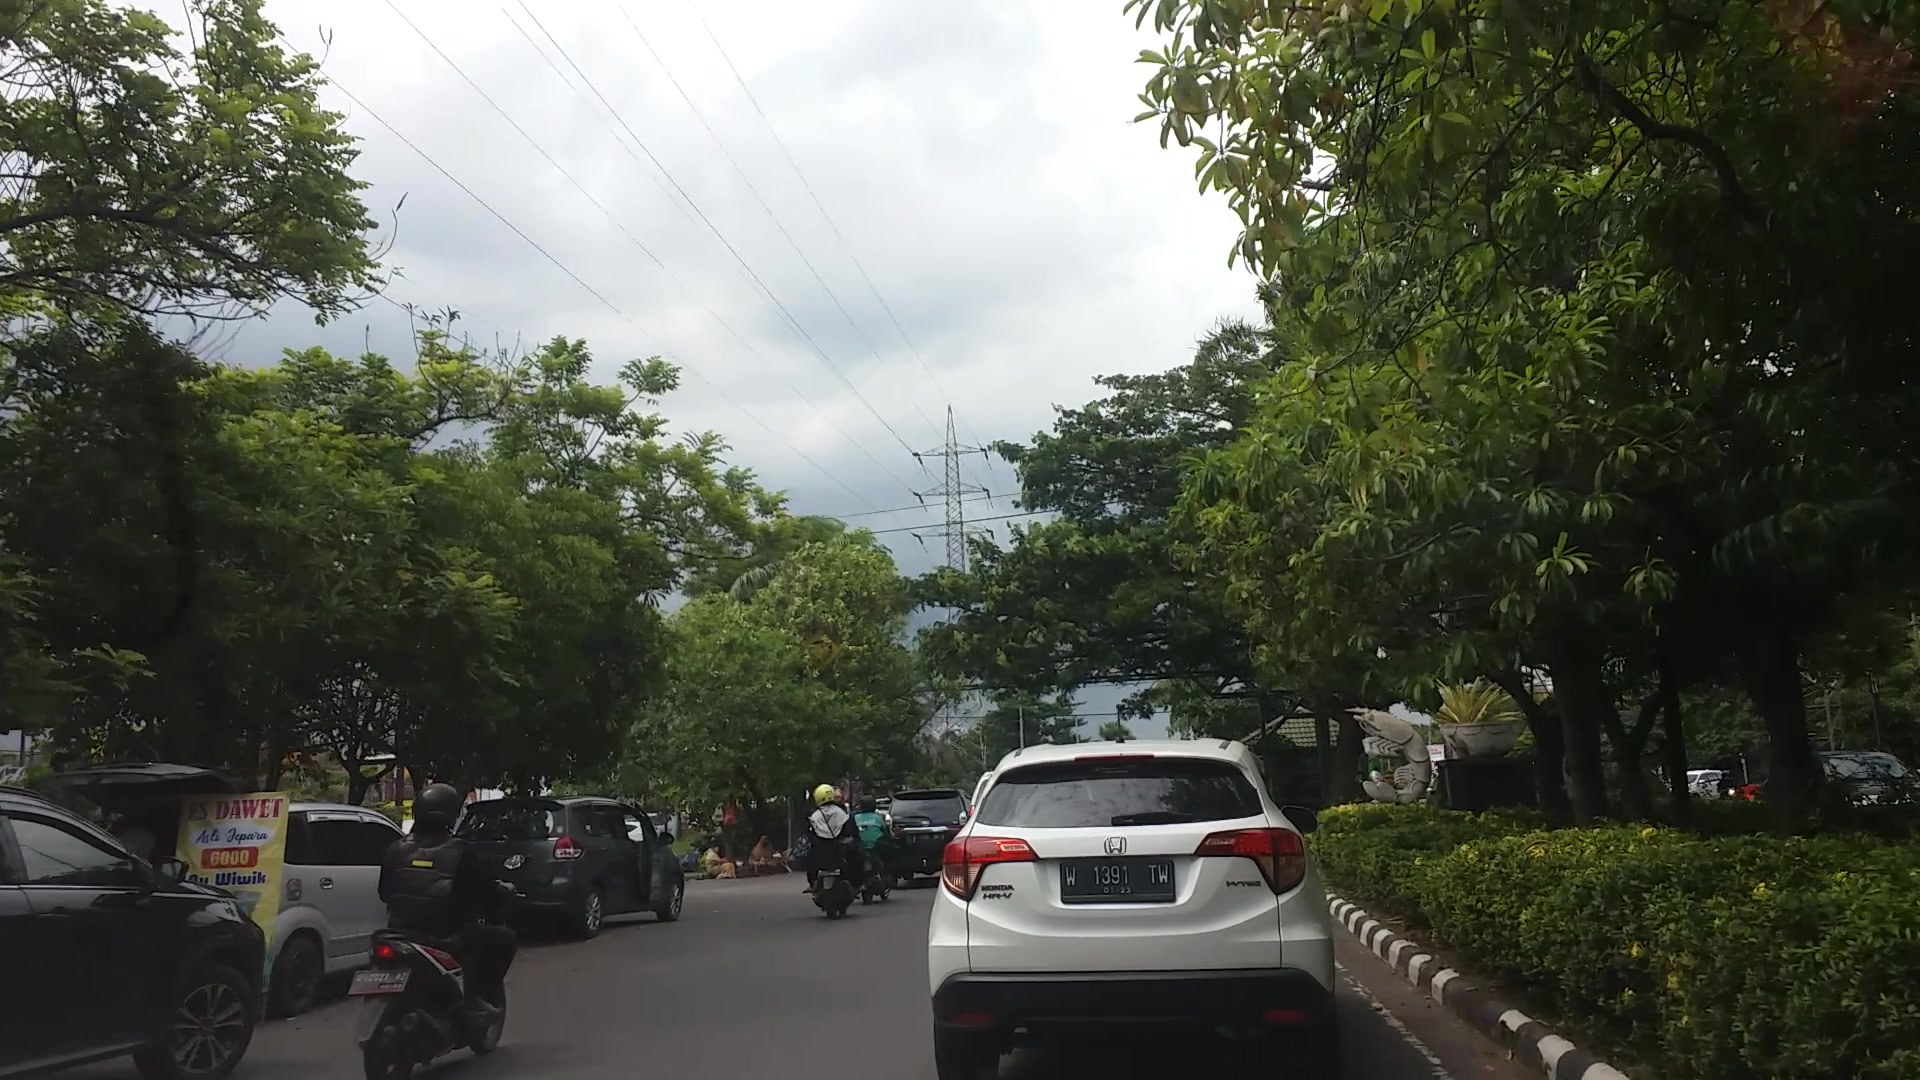plate_positive: (1060, 858, 1176, 903)
